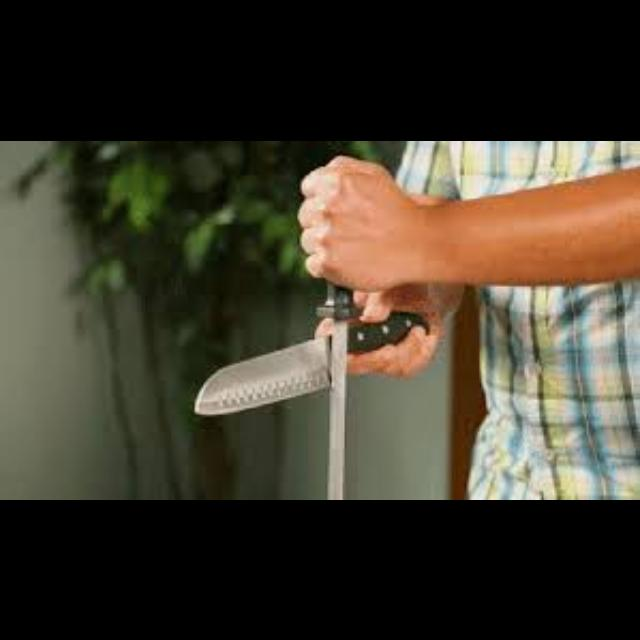Knife: (192, 308, 428, 417)
Person: (286, 145, 640, 500)
Weapon Holding: (327, 286, 453, 380)
